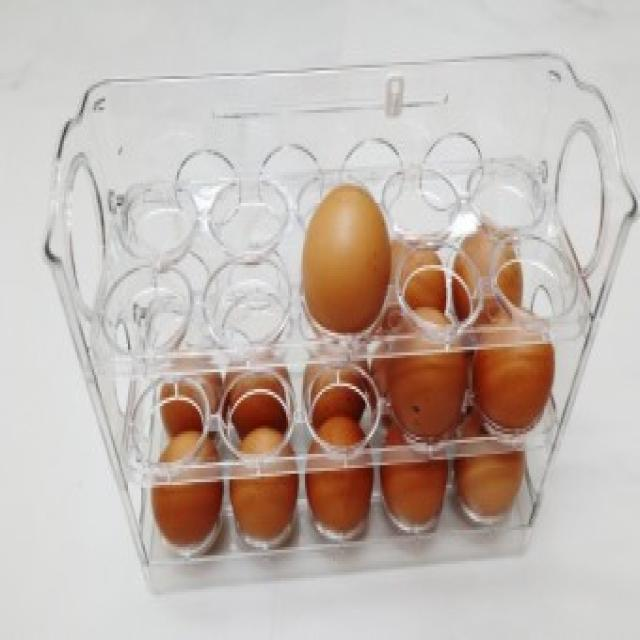eggs: (298, 185, 394, 340), (474, 307, 558, 432), (387, 306, 470, 432), (226, 425, 299, 553), (303, 416, 377, 534), (149, 428, 221, 548), (380, 427, 450, 540), (453, 423, 518, 526)
